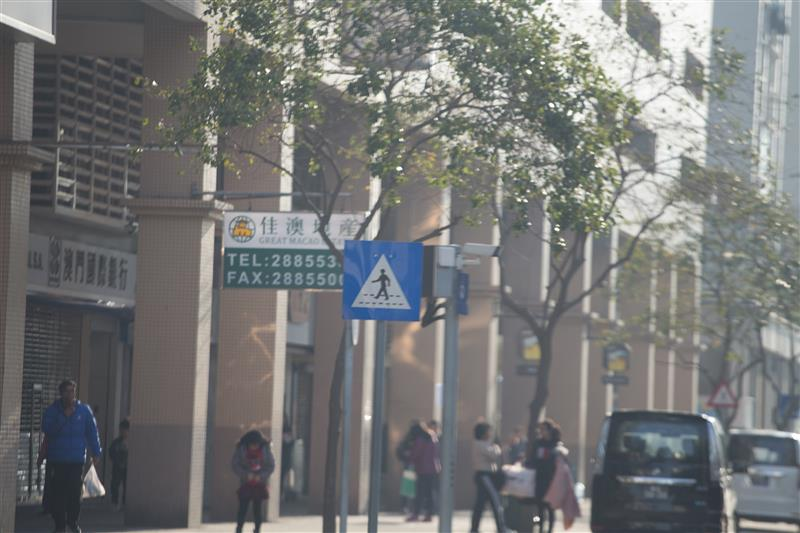pedestrianCrossing: (341, 238, 423, 320)
